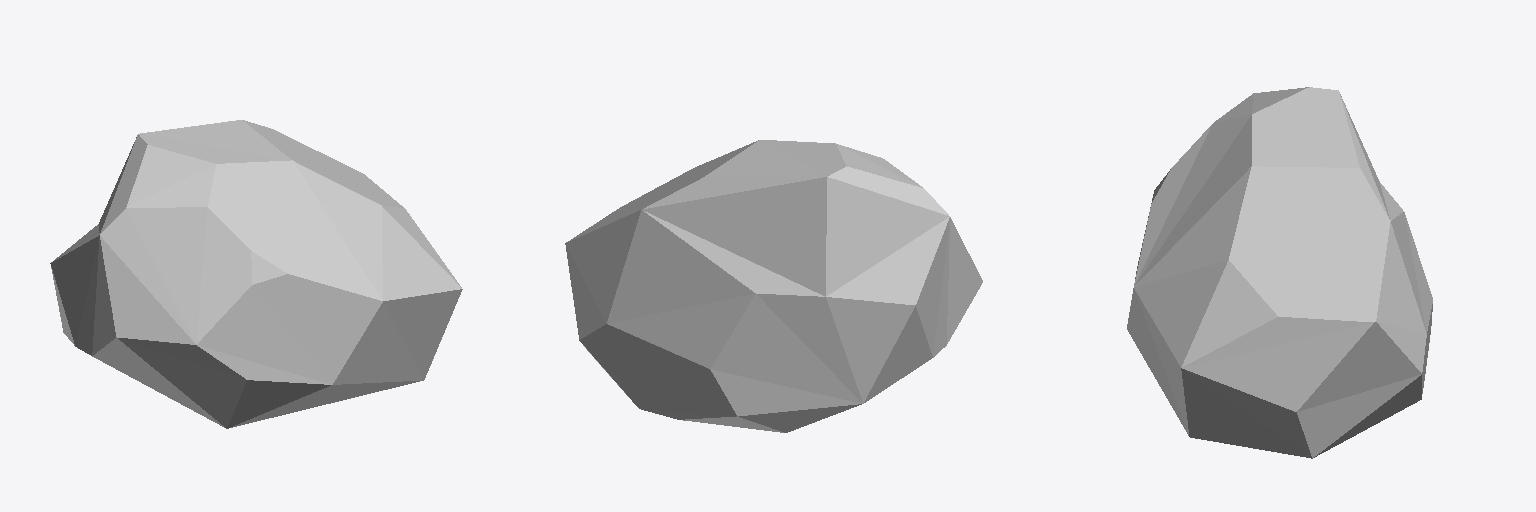
File: rock_2.obj
The picture shows the model from 3 angles: view 1: azimuth 30°, elevation 25°; view 2: azimuth 150°, elevation 25°; view 3: azimuth 270°, elevation 25°; orthographic projection.
Parts seen in each view (by area): view 1: Rock_05_Cube.021; view 2: Rock_05_Cube.021; view 3: Rock_05_Cube.021.
Boxes of the visible parts, box(x1,y1,x2,y2) form: Rock_05_Cube.021: box(50, 120, 462, 428); Rock_05_Cube.021: box(565, 140, 982, 432); Rock_05_Cube.021: box(1127, 87, 1432, 458).
Size of the model in its own units: 0.9769 by 0.6486 by 0.731.